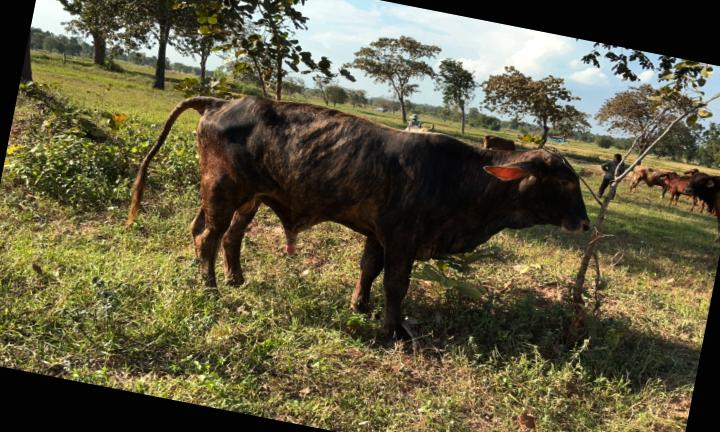Charolais: (128, 96, 588, 341)
